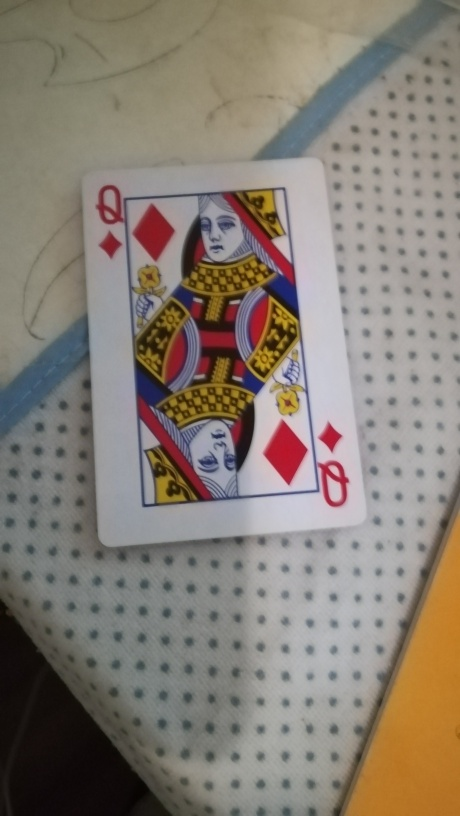fk q: (82, 160, 370, 546)
